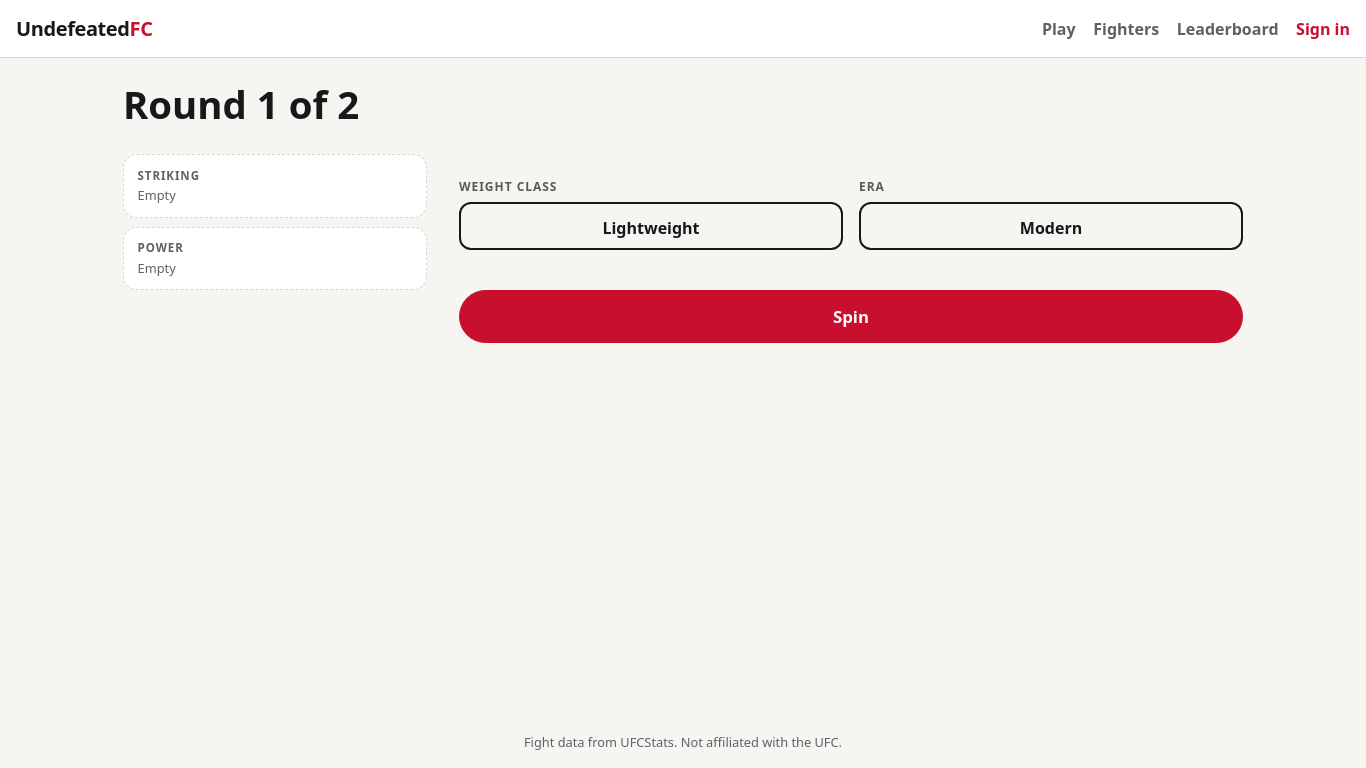
Test: spinning lands the wheels on the pool the server chose
The width and height of the screenshot is (1366, 768).
Click the button "Spin" at (851, 316), box 459,290 -> 1243,343
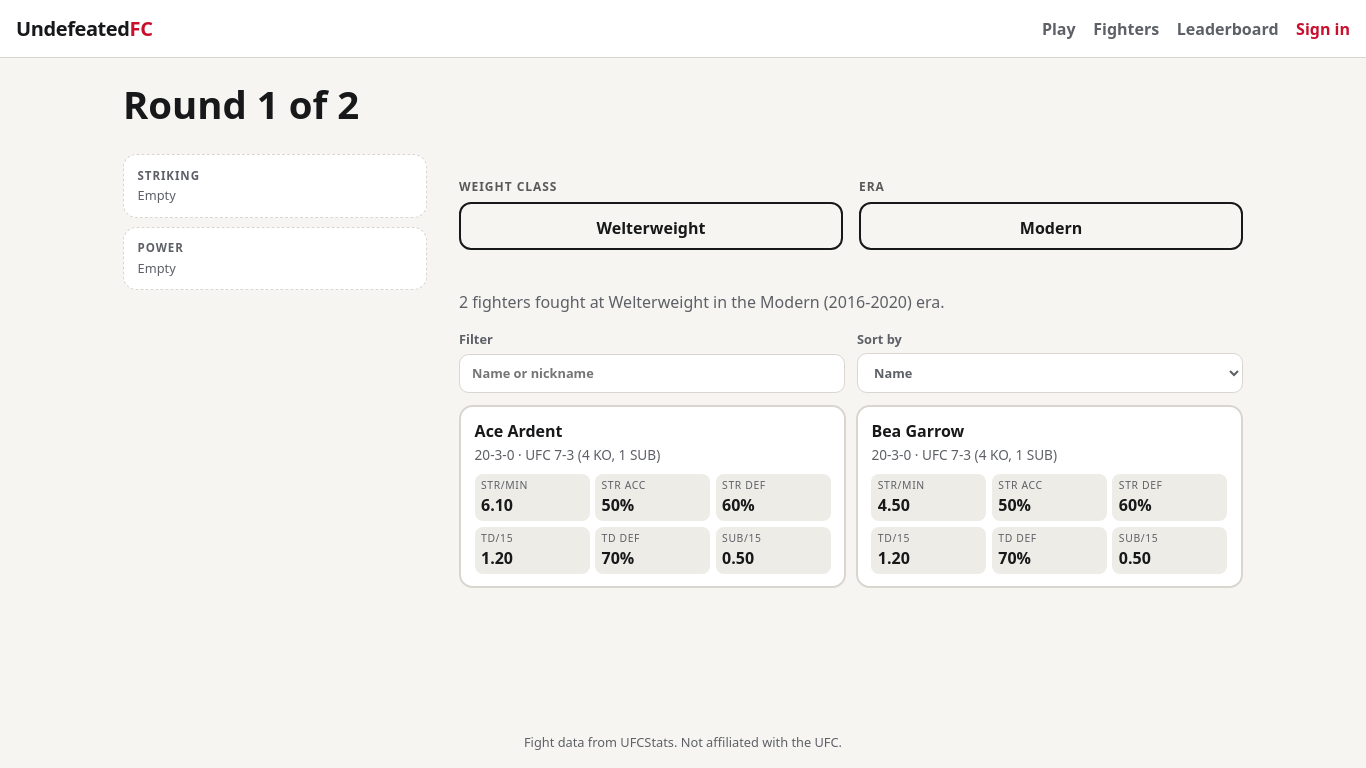
expect the text "2 fighters fought at Welterweight in the Modern (2016-2020) era." is shown: met, box 459,291 -> 944,313
expect the button "Spin" is gone: met
